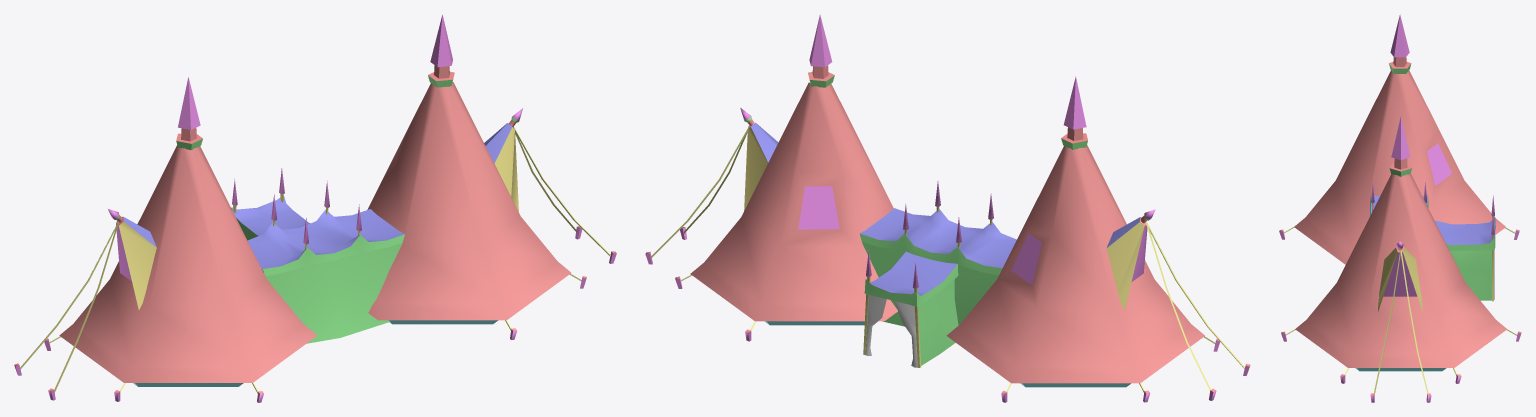
File: darkelf_tent__darkelf_tent_main.gltf
The picture shows the model from 3 angles, left to right: view 1: azimuth 30°, elevation 25°; view 2: azimuth 150°, elevation 25°; view 3: azimuth 270°, elevation 25°; orthographic projection. The views are drawn at different scales.
Visible parts, largest first — view 1: darkelf_tent_main; view 2: darkelf_tent_main; view 3: darkelf_tent_main.
Part boxes in pixels (<box>): darkelf_tent_main: <box>14,14,616,402</box>; darkelf_tent_main: <box>645,14,1250,402</box>; darkelf_tent_main: <box>1279,14,1521,402</box>.
Size of the model in its own units: 8.2 by 3.78 by 3.68.
